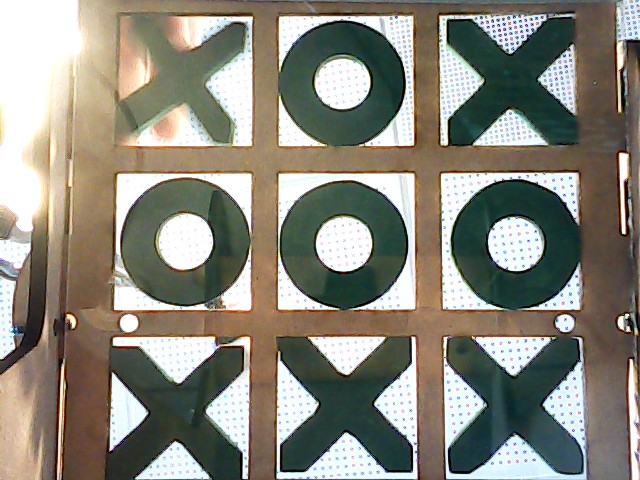O: (444, 175, 582, 308), (280, 172, 413, 308), (119, 175, 248, 308), (282, 16, 413, 142)
X: (447, 335, 585, 478), (280, 337, 416, 475), (113, 339, 246, 478), (441, 15, 577, 143), (118, 19, 243, 144)
